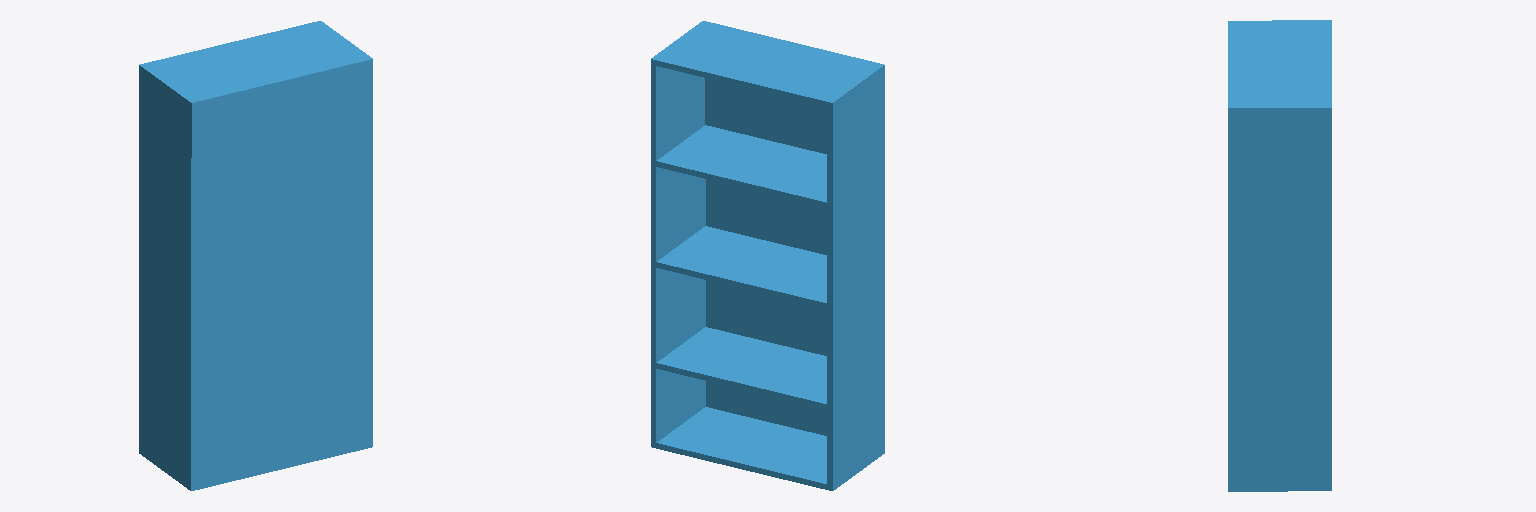
URDF robot description (cabine):
<?xml version="1.0"?>
<robot name="cabine">

<!-- conveyor belt is just a long flat box for objects to slide on it -->

<!-- world link -->
<link name="world"/>

<!-- base_link and its fixed joint -->
<joint name="joint_fix" type="fixed">
  <parent link="world"/>
  <child link="base_link"/>
</joint>


<link name="base_link">
  <collision>
    <origin xyz="0 0 0" rpy="1.57 0 -1.57"/>
    <geometry>
      <mesh
        filename="package://ur_platform/model/emo-platform-cabinet.stl" />
    </geometry>
  </collision>

  <visual>
    <origin xyz="0 0 0" rpy="1.57 0 -1.57"/>
    <geometry>
      <mesh
        filename="package://ur_platform/model/emo-platform-cabinet.stl" />
    </geometry>
  </visual>

  <inertial>
    <origin xyz="0 0 0" rpy="0 0 0"/>
    <mass value="1"/>
    <inertia
      ixx="1.0" ixy="0.0" ixz="0.0"
      iyy="1.0" iyz="0.0"
      izz="1.0"/>
  </inertial>
</link>


</robot>

--- Render facts (derived) ---
The picture shows the robot from 3 angles, left to right: view 1: azimuth 30°, elevation 25°; view 2: azimuth 150°, elevation 25°; view 3: azimuth 270°, elevation 25°; orthographic projection.
Model cabine with 2 links and 1 joints (1 fixed), rooted at world, posed all joints at 0.
Visible links, largest first — view 1: base_link; view 2: base_link; view 3: base_link.
Boxes of the visible links, x1=… form: base_link: x1=139, y1=21, x2=372, y2=490; base_link: x1=651, y1=21, x2=884, y2=490; base_link: x1=1228, y1=20, x2=1331, y2=491.
Bounding box of the posed robot: 0.501 × 0.2504 × 1.02 m (x, y, z).
1 mesh visuals loaded from 1 distinct referenced files (1 binary STL).